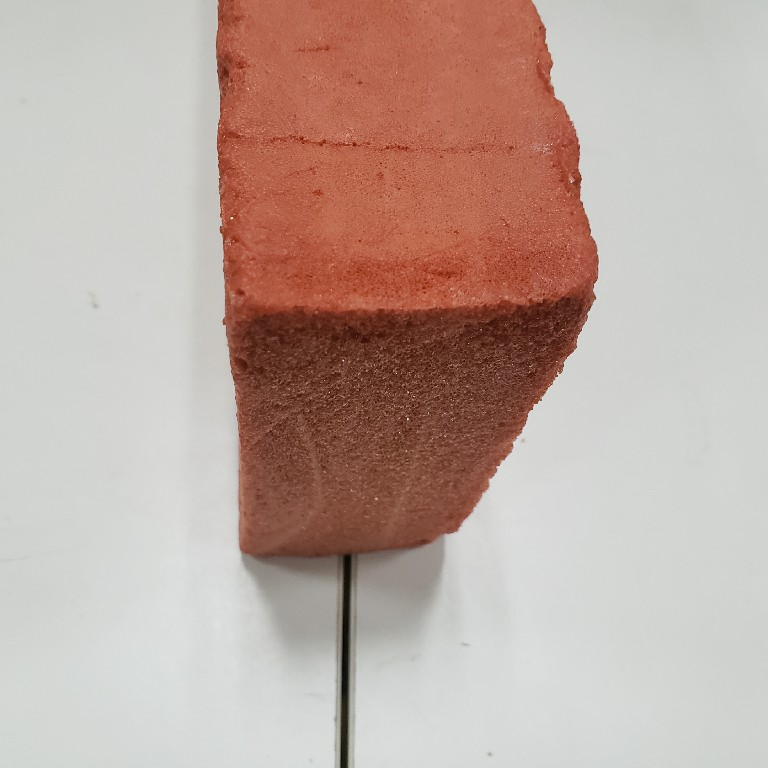brick: (211, 1, 609, 571)
